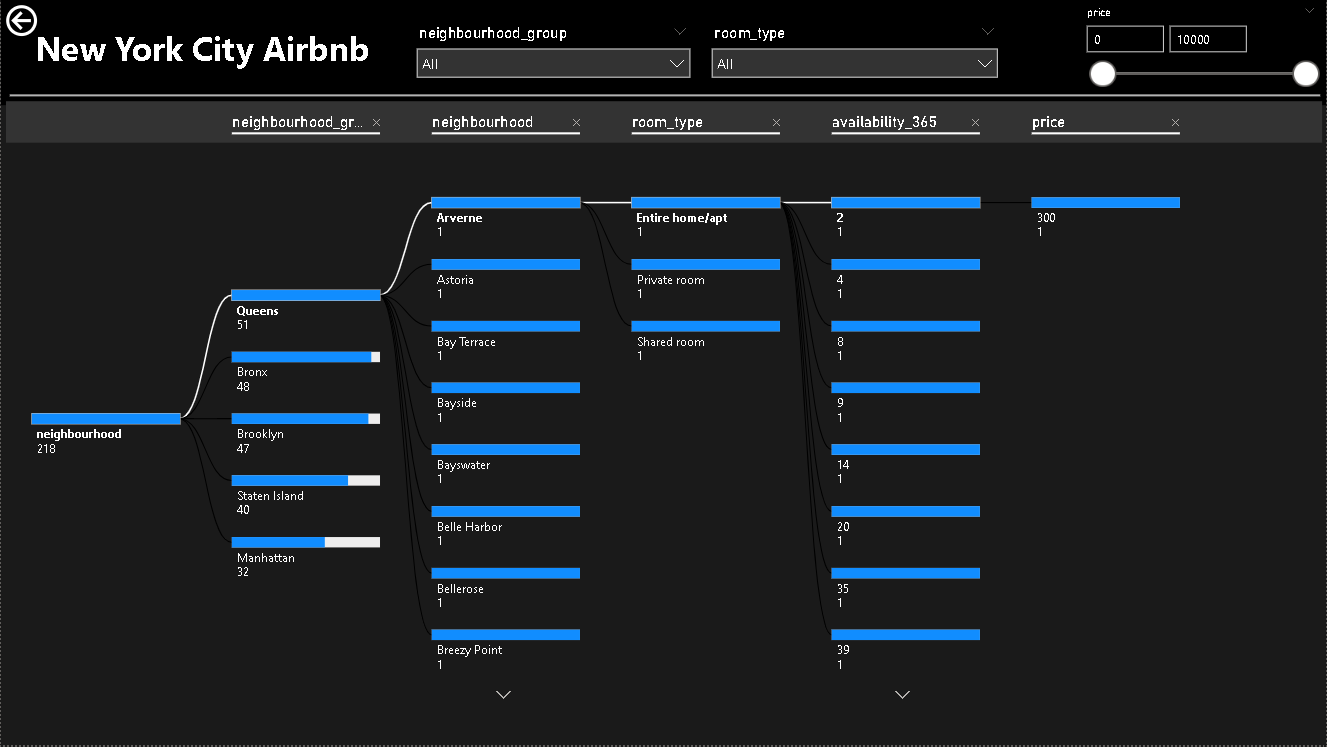

The page's visual inventory and layout, read from the dashboard file:
{"tool":"powerbi","page":{"name":"Decomposition Tree","canvas":[1280,720],"ordinal":1},"visuals":[{"type":"shape","box":[0,0,1280.3,101.5],"z":0},{"type":"shape","box":[8.2,83.7,1265.2,17.8],"z":1000},{"type":"decompositionTreeVisual","fields":{"ExplainBy":["AB_NYC_2019.neighbourhood_group","AB_NYC_2019.neighbourhood","AB_NYC_2019.room_type","AB_NYC_2019.availability_365","AB_NYC_2019.price"],"Analyze":["Count(AB_NYC_2019.neighbourhood_group)"]},"box":[0,93.3,1280.3,617.5],"z":2000},{"type":"slicer","fields":{"Values":["AB_NYC_2019.price"]},"box":[1034.7,0,245.6,85.1],"z":3000},{"type":"textbox","box":[27.4,19.2,363.6,76.8],"z":4000},{"type":"slicer","fields":{"Values":["AB_NYC_2019.neighbourhood_group"]},"box":[391.1,17.8,284,65.9],"z":5000},{"type":"slicer","fields":{"Values":["AB_NYC_2019.room_type"]},"box":[675.1,17.8,296.4,65.9],"z":6000},{"type":"actionButton","box":[0,0,100.2,39.8],"z":7000}]}

Visuals, with their boxes on the page's 1280x720 design canvas (x1, y1, x2, y2). These are canvas units, not pixel positions in the 1327x747 screenshot, which may show the page scaled, cropped or inside an application window:
shape: l=0, t=0, r=1280, b=102
shape: l=8, t=84, r=1273, b=102
decompositionTreeVisual - AB_NYC_2019.neighbourhood_group x AB_NYC_2019.neighbourhood: l=0, t=93, r=1280, b=711
slicer - AB_NYC_2019.price: l=1035, t=0, r=1280, b=85
textbox: l=27, t=19, r=391, b=96
slicer - AB_NYC_2019.neighbourhood_group: l=391, t=18, r=675, b=84
slicer - AB_NYC_2019.room_type: l=675, t=18, r=972, b=84
actionButton: l=0, t=0, r=100, b=40
